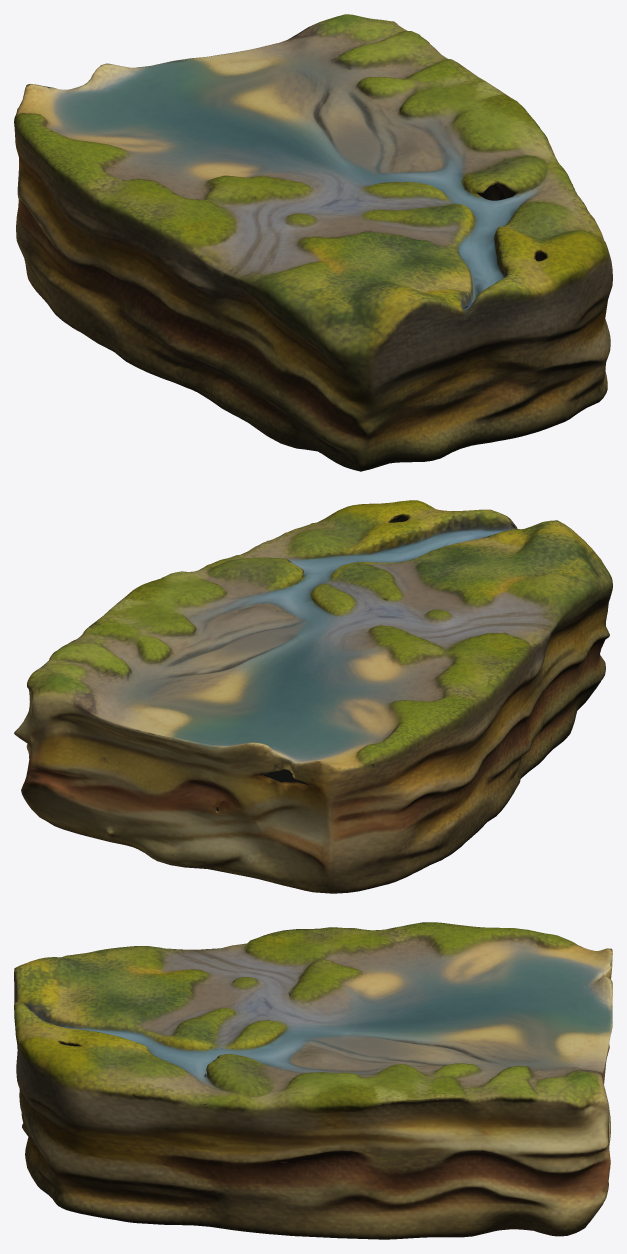
3 views of the same model, one above another, from view 1: azimuth 30°, elevation 25°; view 2: azimuth 150°, elevation 25°; view 3: azimuth 270°, elevation 25° (orthographic). The views are drawn at different scales.
Visible parts, largest first — view 1: world; view 2: world; view 3: world.
Boxes of the visible parts, <box> form: world: <box>14,14,612,471</box>; world: <box>14,500,612,893</box>; world: <box>14,922,612,1239</box>.
Size of the model in its own units: 8.68 by 3.56 by 12.
1 material, 1 textured.
